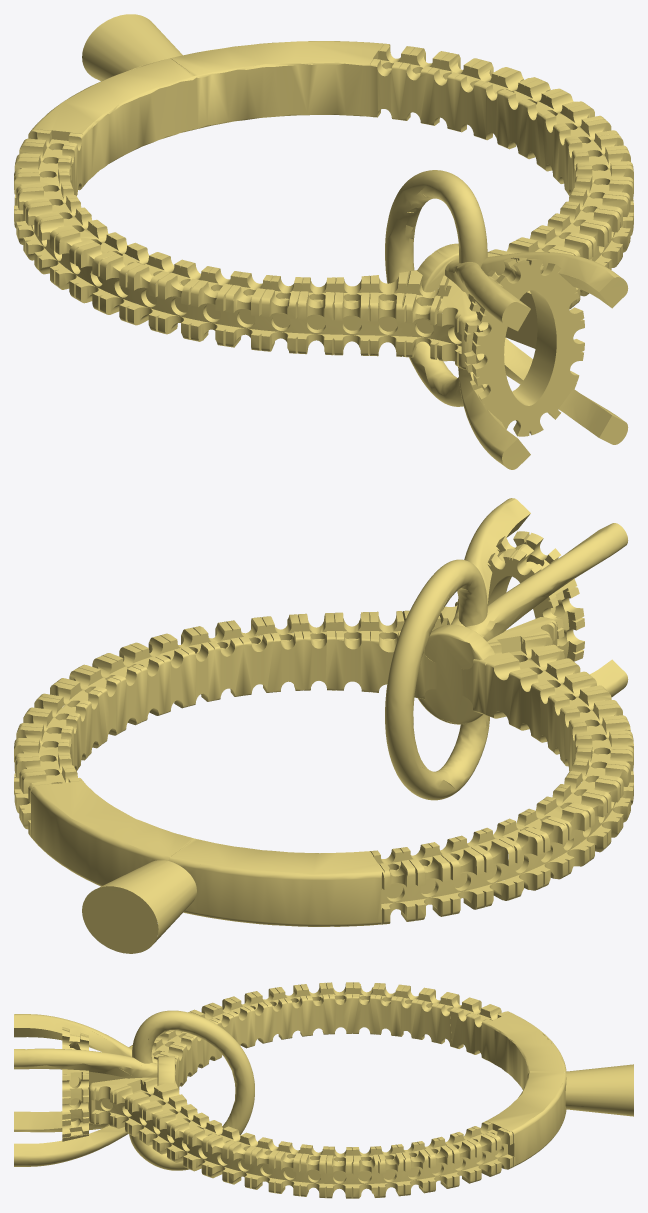
3 renders of one model, top to bottom at view 1: azimuth 30°, elevation 25°; view 2: azimuth 150°, elevation 25°; view 3: azimuth 270°, elevation 25°, orthographic. The views are drawn at different scales.
Parts seen in each view (by area): view 1: Renderer Node; view 2: Renderer Node; view 3: Renderer Node.
Part boxes in pixels (left/top/right/bottom): Renderer Node: left=14, top=14, right=633, bottom=469; Renderer Node: left=14, top=498, right=633, bottom=953; Renderer Node: left=14, top=982, right=633, bottom=1198.
Bounding box in the file's own units: 21.62 × 8.77 × 31.11.
